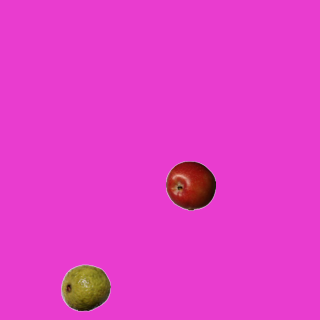Apple Braeburn: (165, 160, 215, 210)
Guava: (60, 262, 110, 312)
